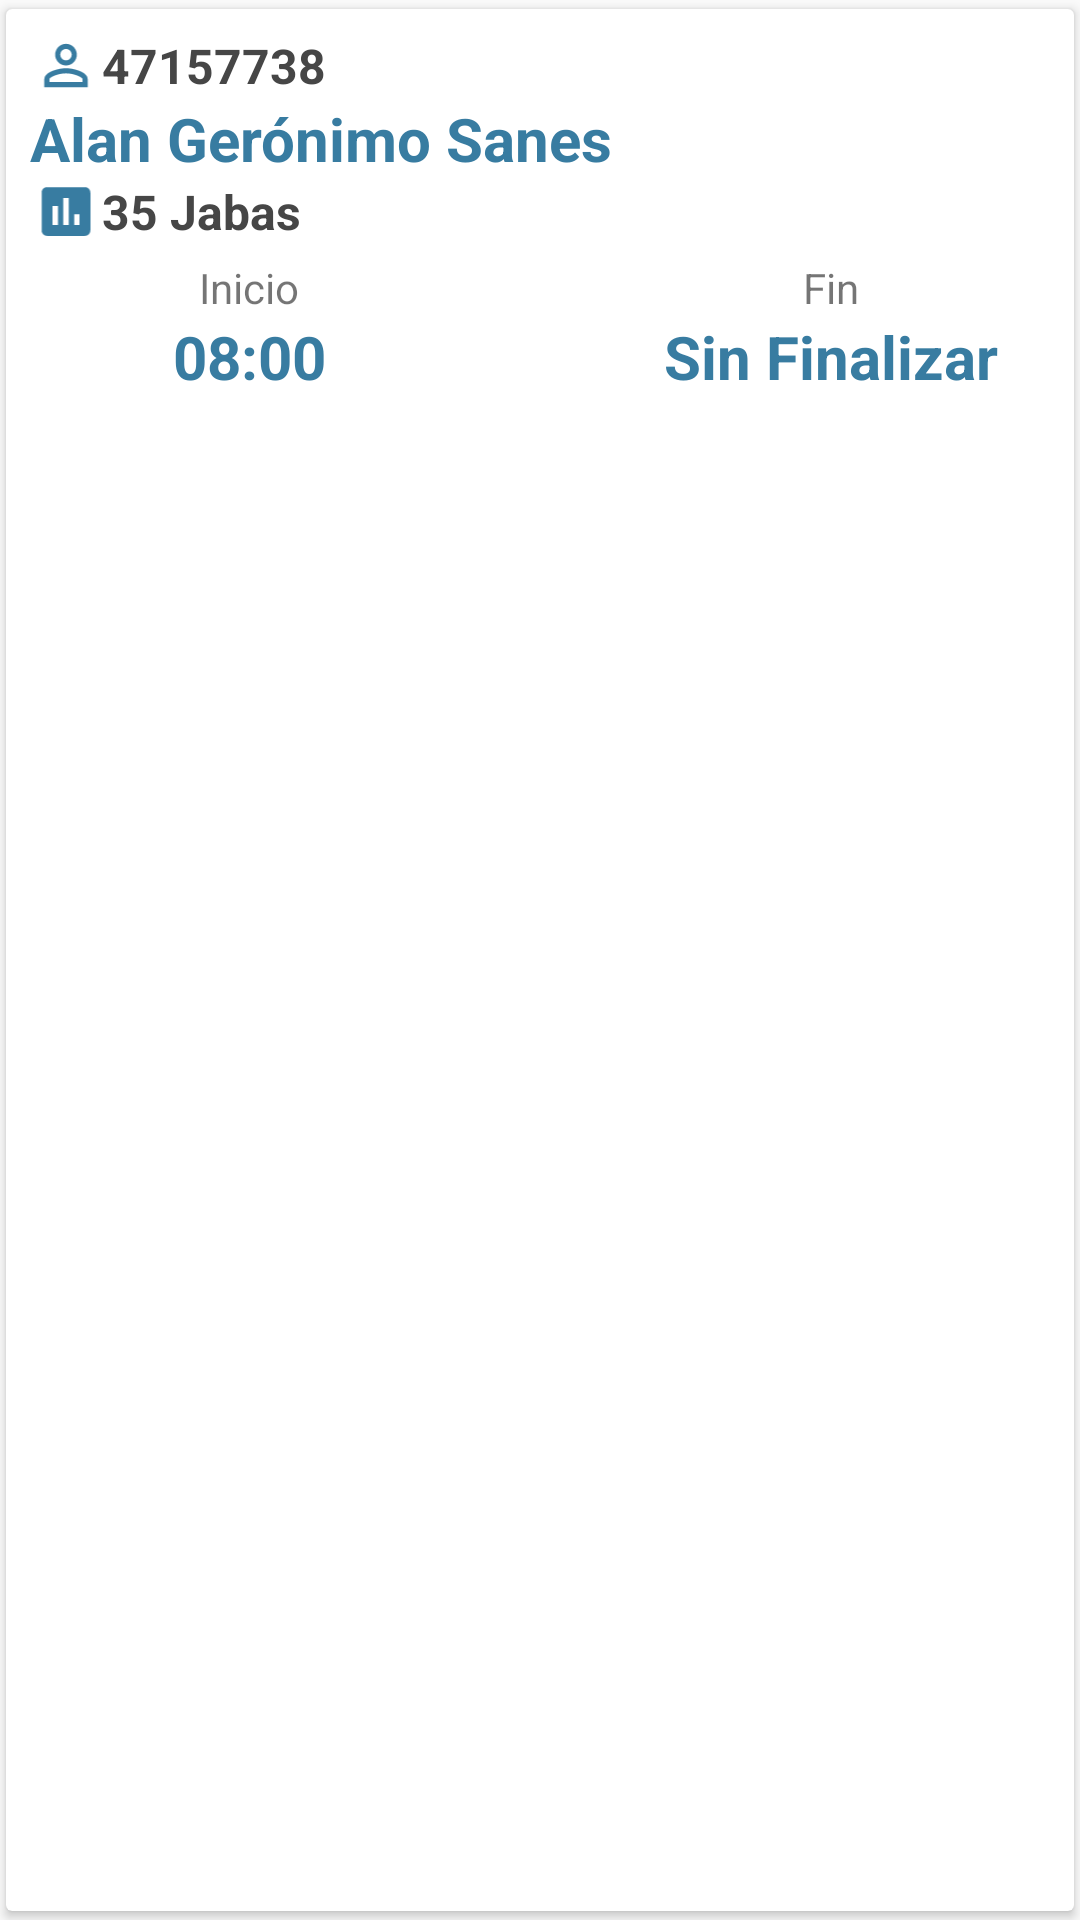

Point at icon controls on the screen. Image size 1080w x 1920h, points as (x,y).
insert chart: (66,211)
person: (66,65)
